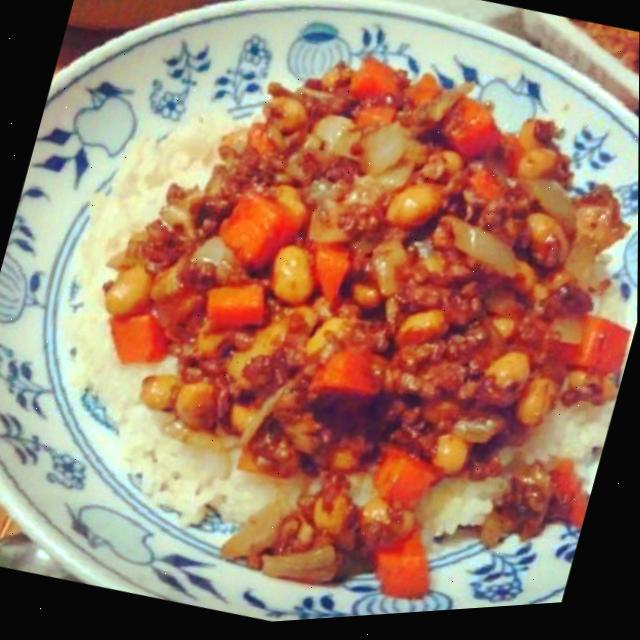米饭主食: (258, 38, 640, 616)
